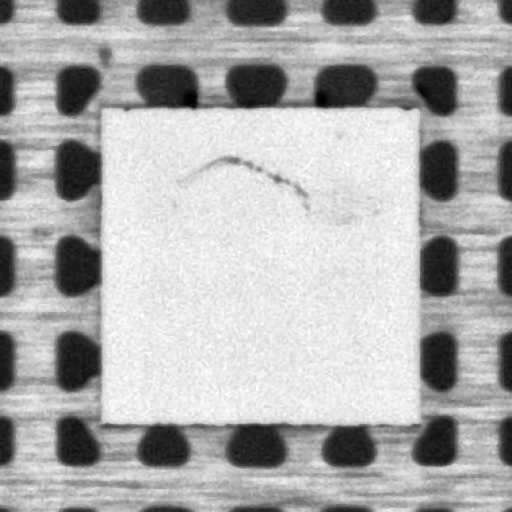DIE_CRACK: (178, 153, 308, 197)
